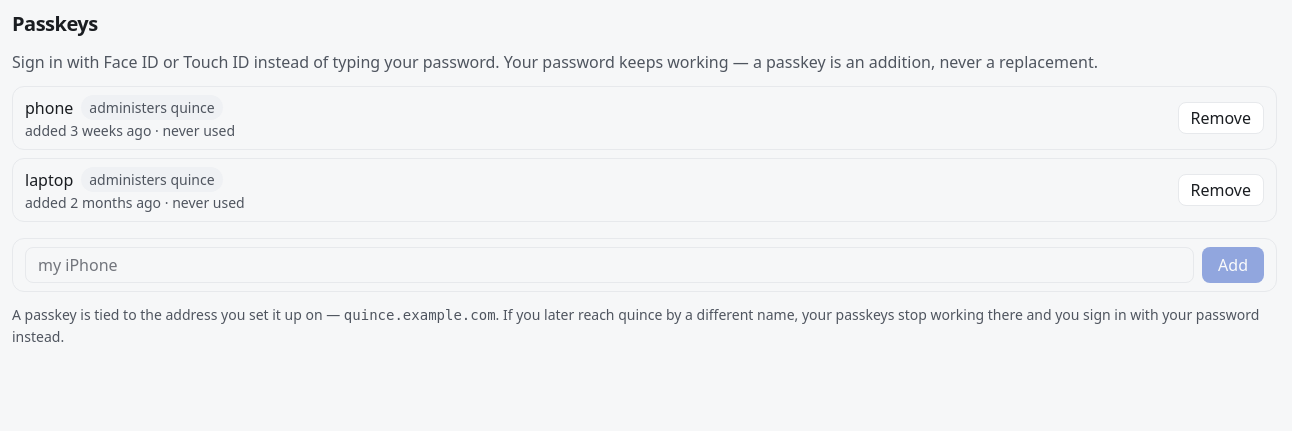
a refused proof is not swallowed › says so when the ceremony itself is refused
Click the button "Remove" in the row of "phone": (1221, 118) [1178,102,1264,134]
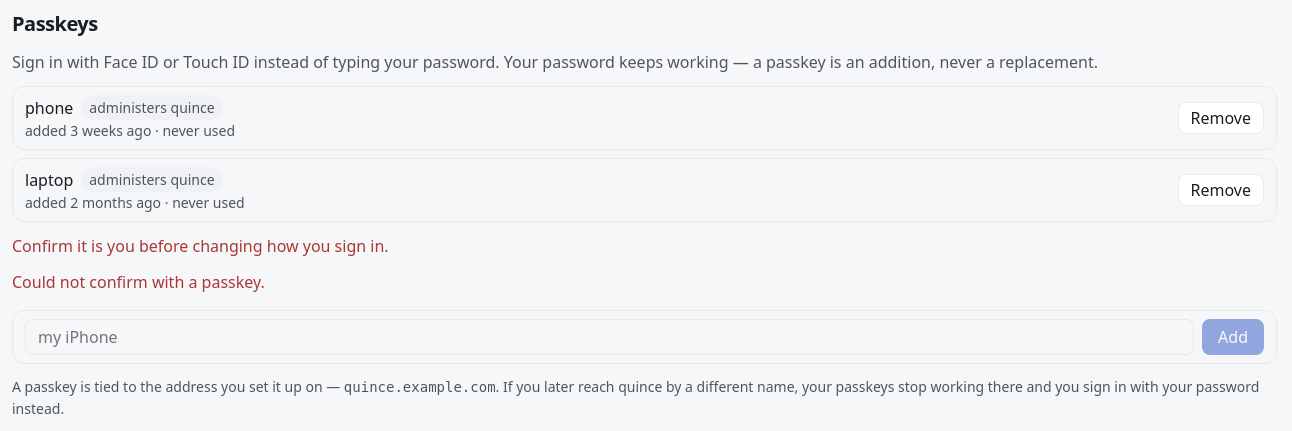
Expected: the text "Could not confirm with a passkey." is shown, [12,271,265,293]
